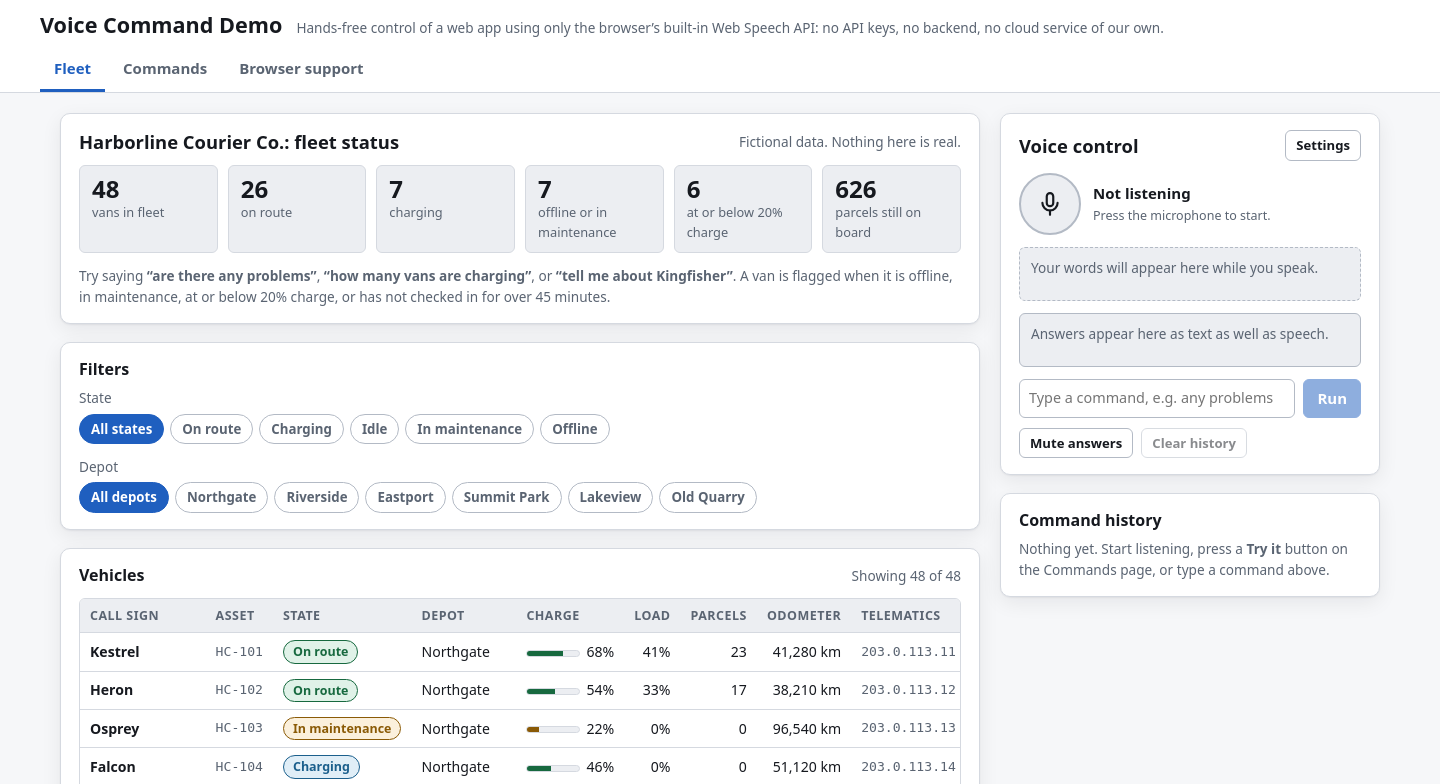
Test: click-to-try: the no-microphone path › applies a command effect: a filter command narrows the table and navigates back to it
Click the button "Commands".
click(165, 70)  # box [109, 48, 221, 92]
(page scrolled)
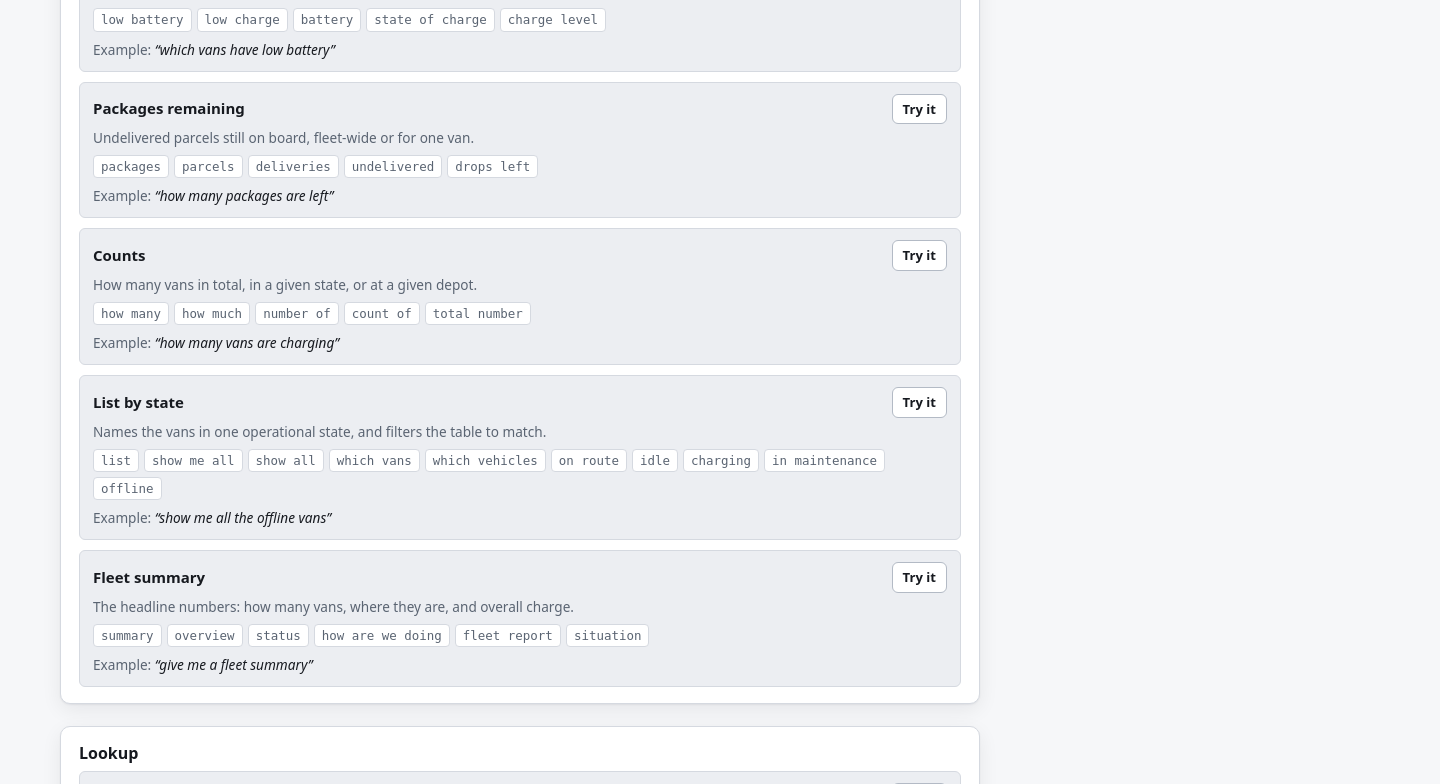
Now the list item with class "command-card" that starts with "List by state" is shown, box [79, 375, 961, 540]
Click the button "Try it" in the row of "List by state".
click(919, 402)  # box [892, 387, 947, 418]
(page scrolled)
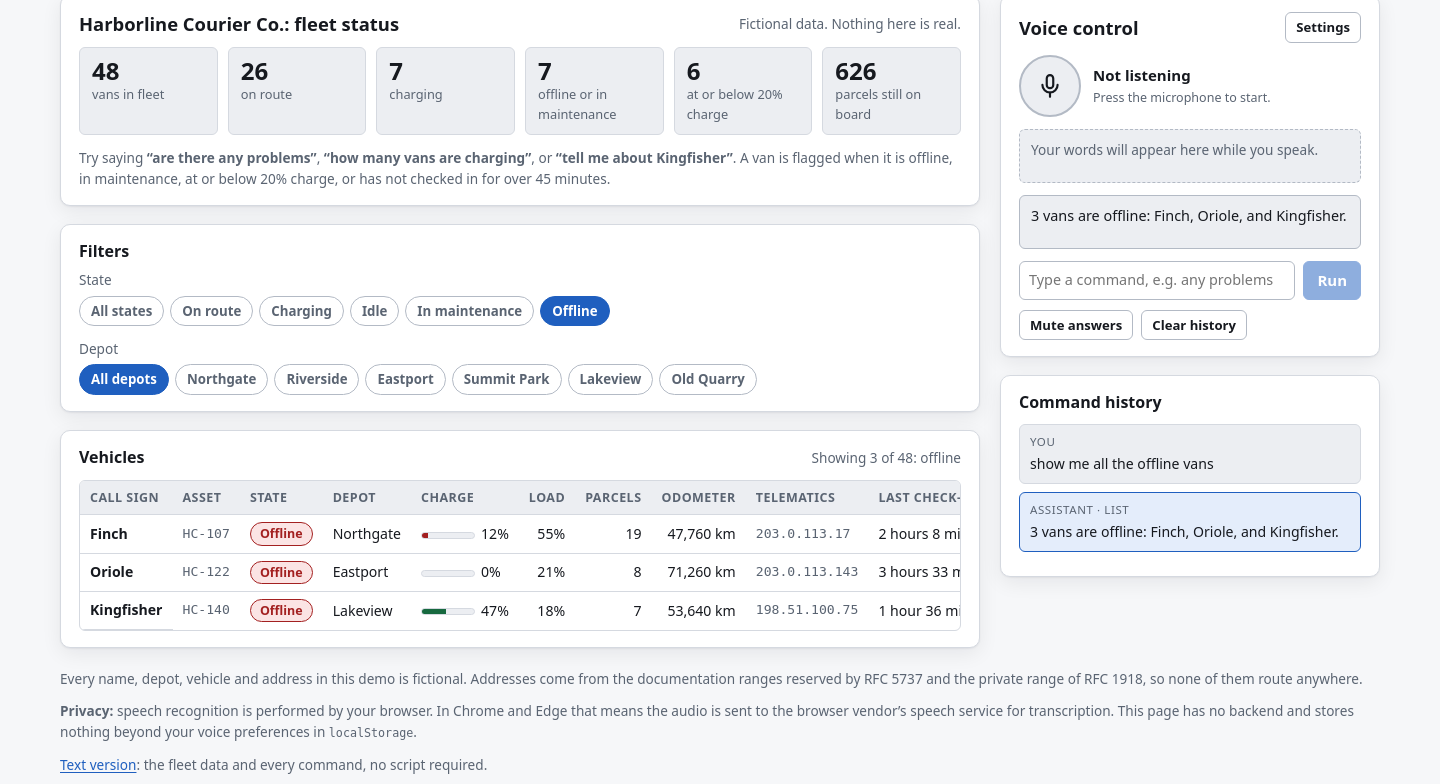
Now the text "3 vans are offline" is shown, box [1031, 206, 1347, 225]
